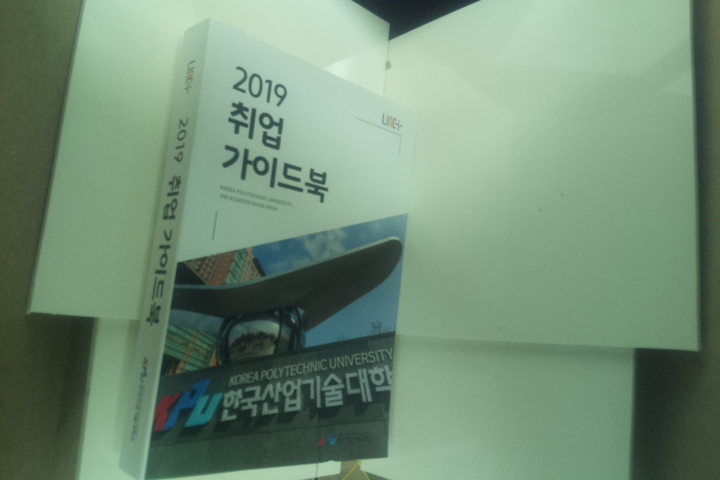book: (114, 16, 422, 480)
